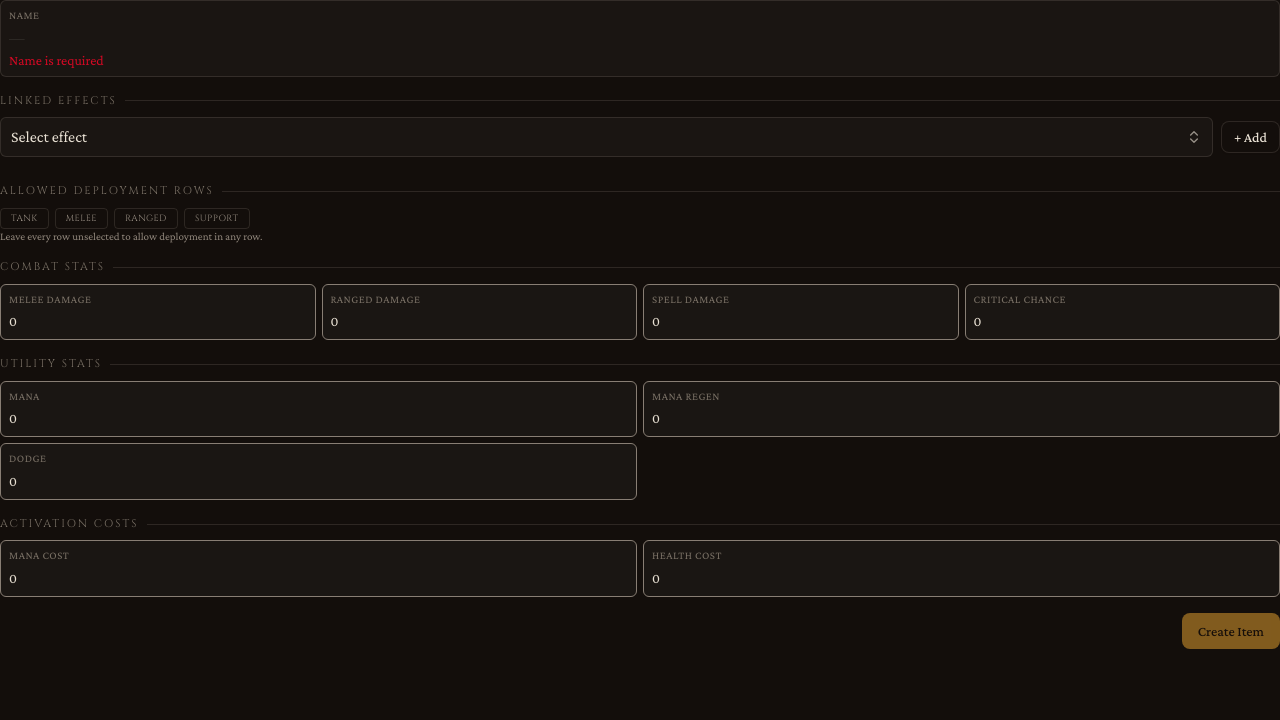
Test: ItemWorkspaceForm › limits the visible picker options to five and uses the search prompt only as a placeholder
The image size is (1280, 720).
Click the dropdown with test id "item-effect-picker": [49, 136] box [0,117,1213,157]
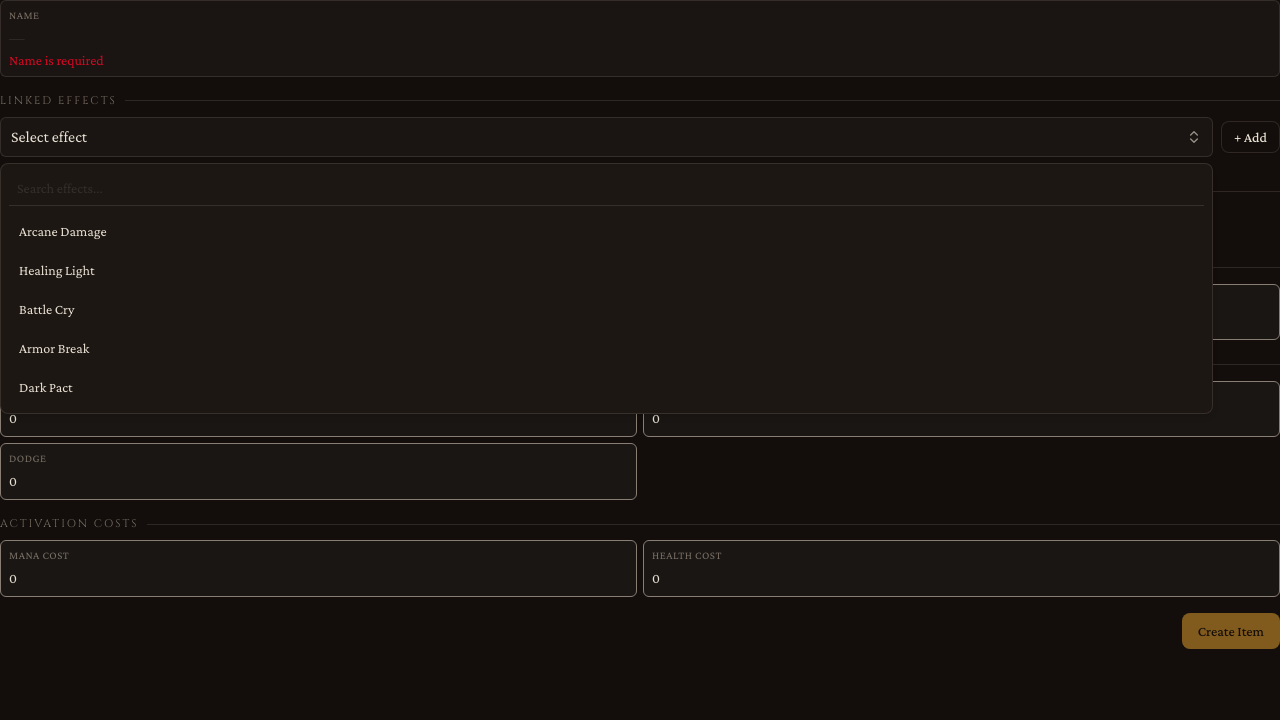
Result: the number of options is 5 at [9,214,1204,249]; [9,253,1204,288]; [9,292,1204,327]; [9,331,1204,366]; [9,370,1204,405]
